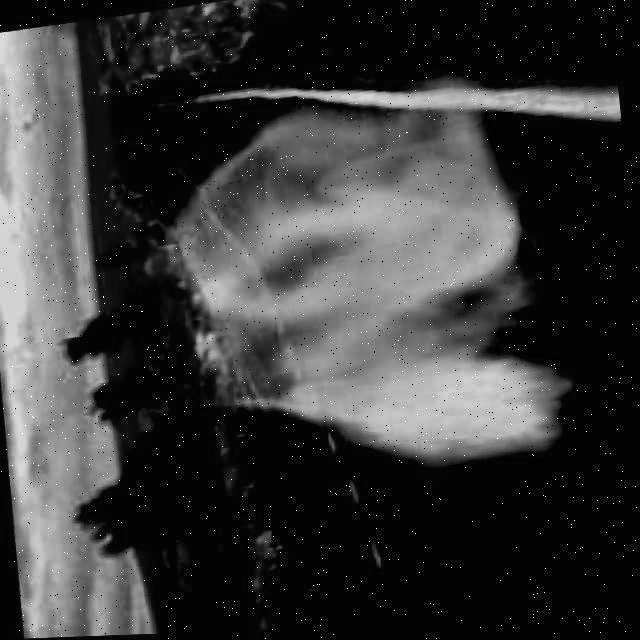Smoke: (134, 54, 597, 515)
